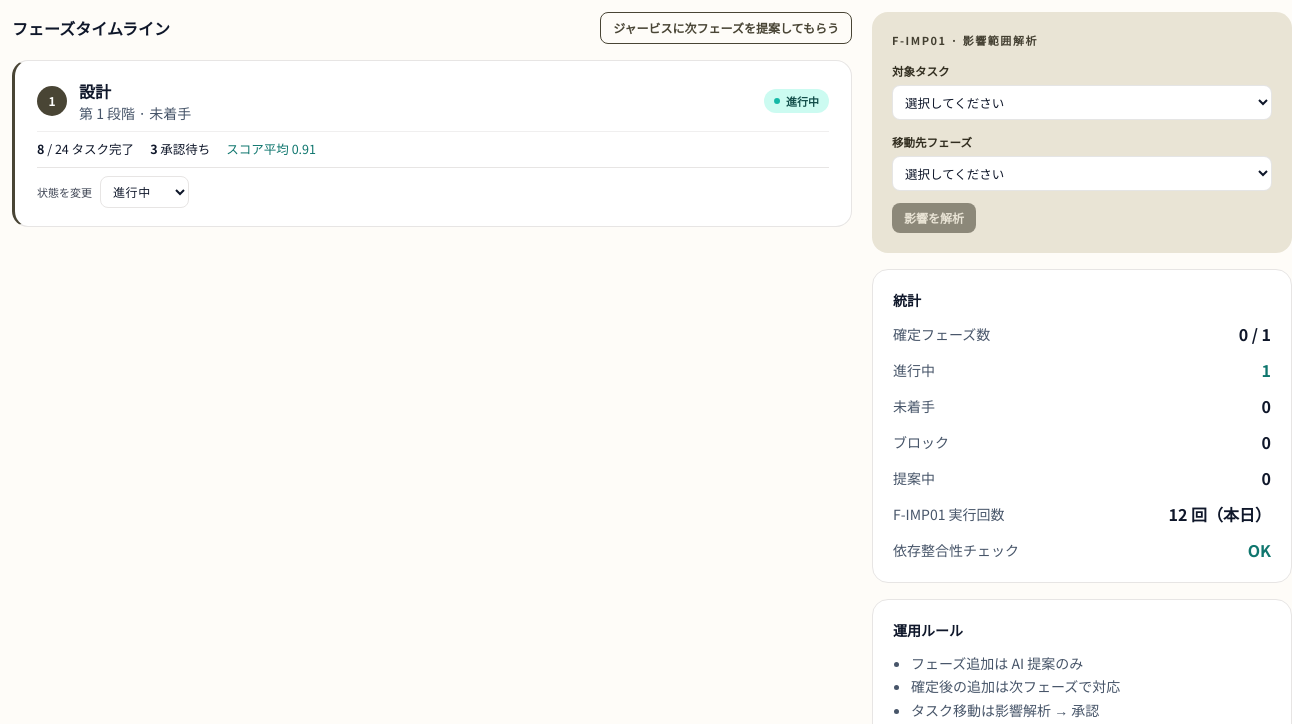
Test: S-F02 GAP-022 (AI 提案フェーズ + F-IMP01 + 集計) › requests a phase proposal from Jarvis (POST /workflow/phase-proposals)
Click the button "ジャービスに次フェーズを提案してもらう". click: (726, 28)
box: [600,12,852,44]
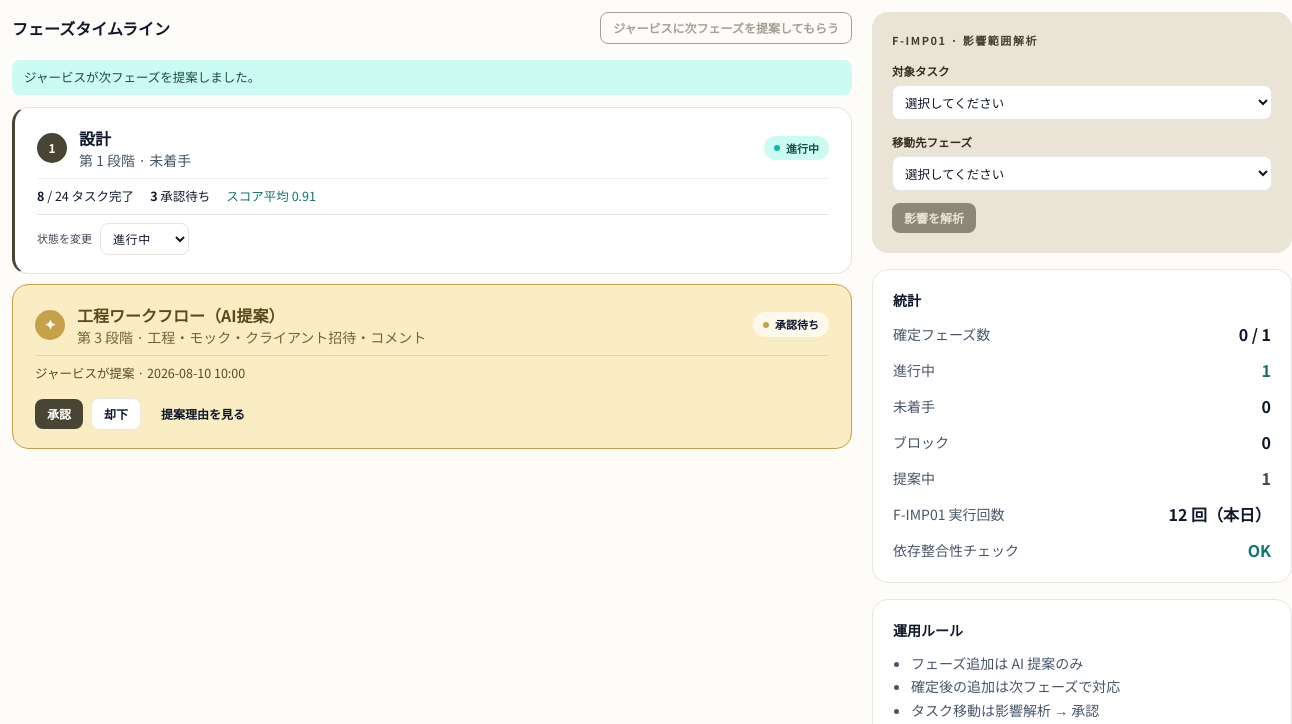
Check: the text "工程ワークフロー（AI提案）" is shown, box [77,302,285,326]
Check: the text "ジャービスが提案 · 2026-08-10 10:00" is shown, box [35,354,829,382]
Click the button "提案理由を見る". click: (203, 414)
box: [149,399,257,429]
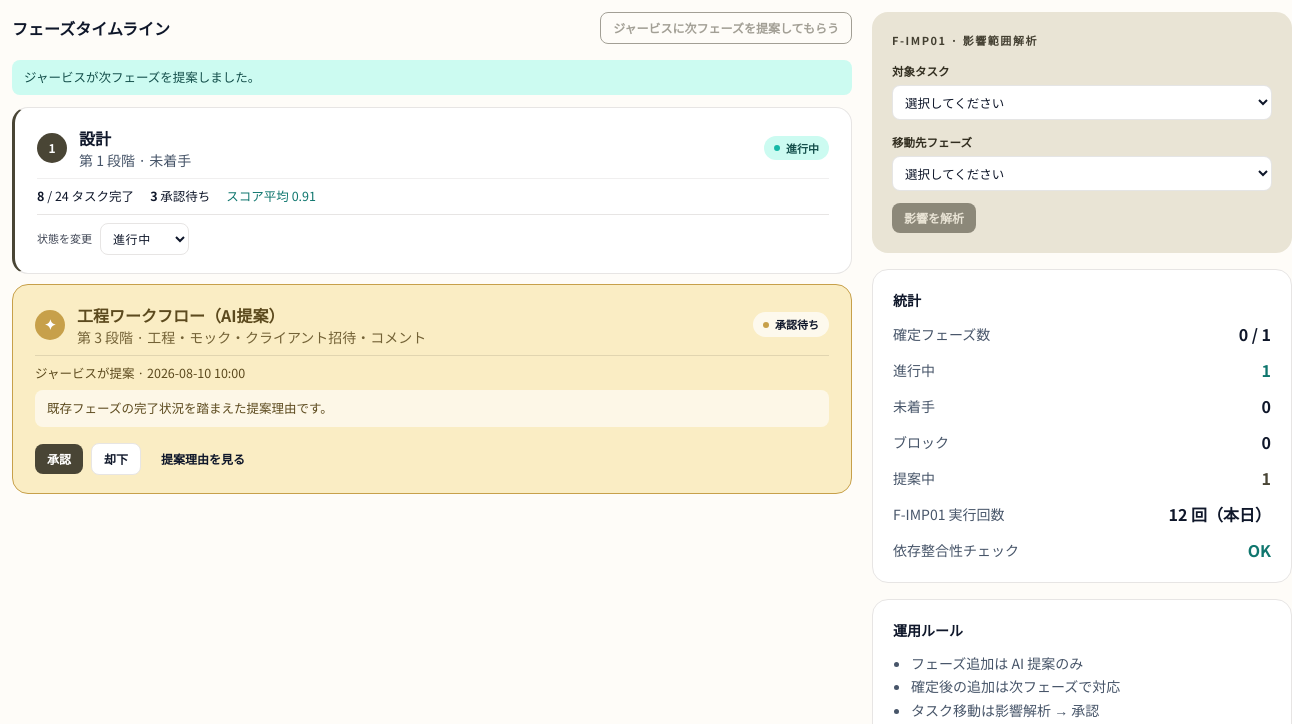
Check: the text "既存フェーズの完了状況を踏まえた提案理由です。" is shown, box [35,390,829,427]
